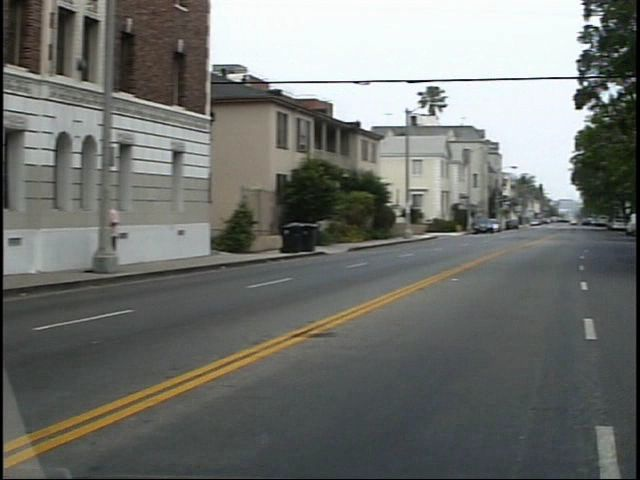person: (109, 195, 144, 272)
